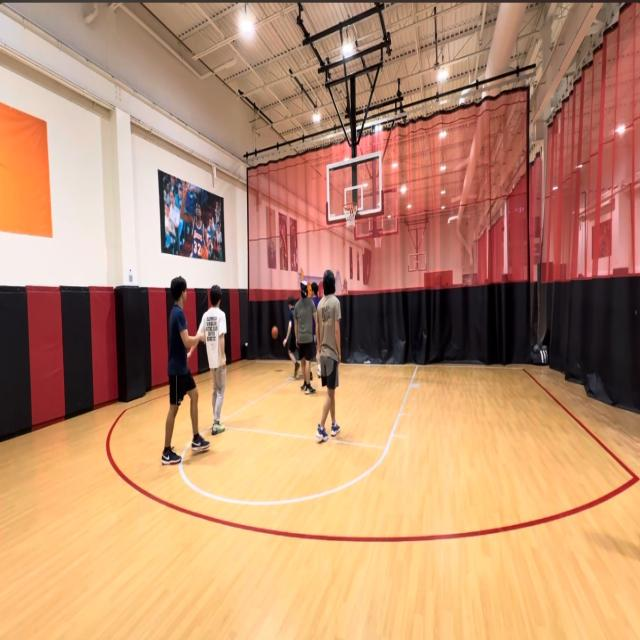Basketball: (272, 326, 278, 338)
Basketball Rim: (342, 202, 358, 228)
